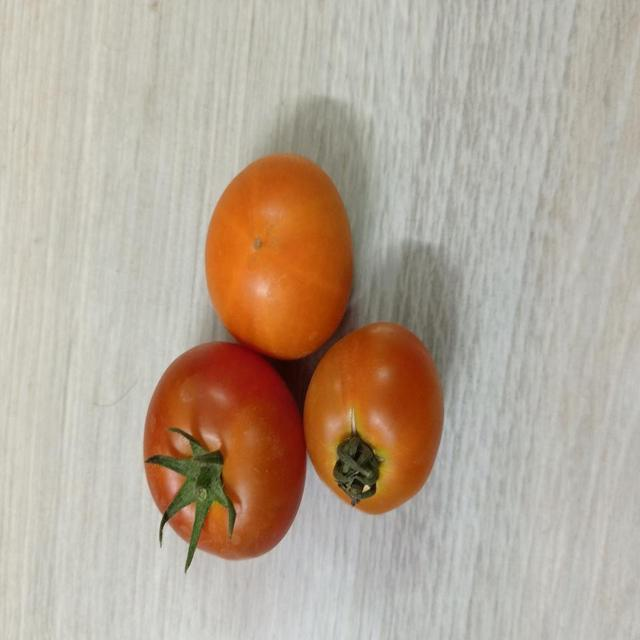Healthy Fruit: (96, 135, 251, 300)
